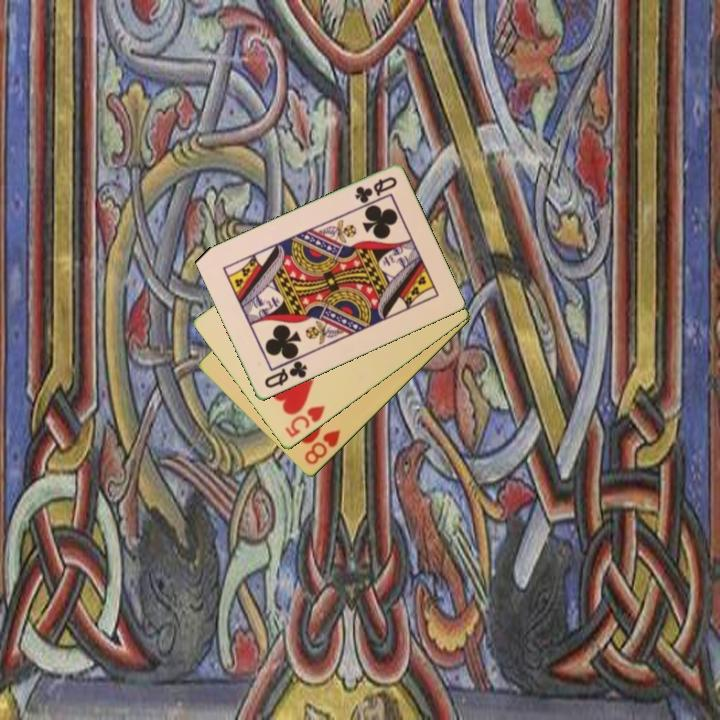5h: (281, 402, 328, 441)
8h: (301, 426, 343, 468)
Qc: (261, 357, 310, 391), (351, 173, 400, 207)
